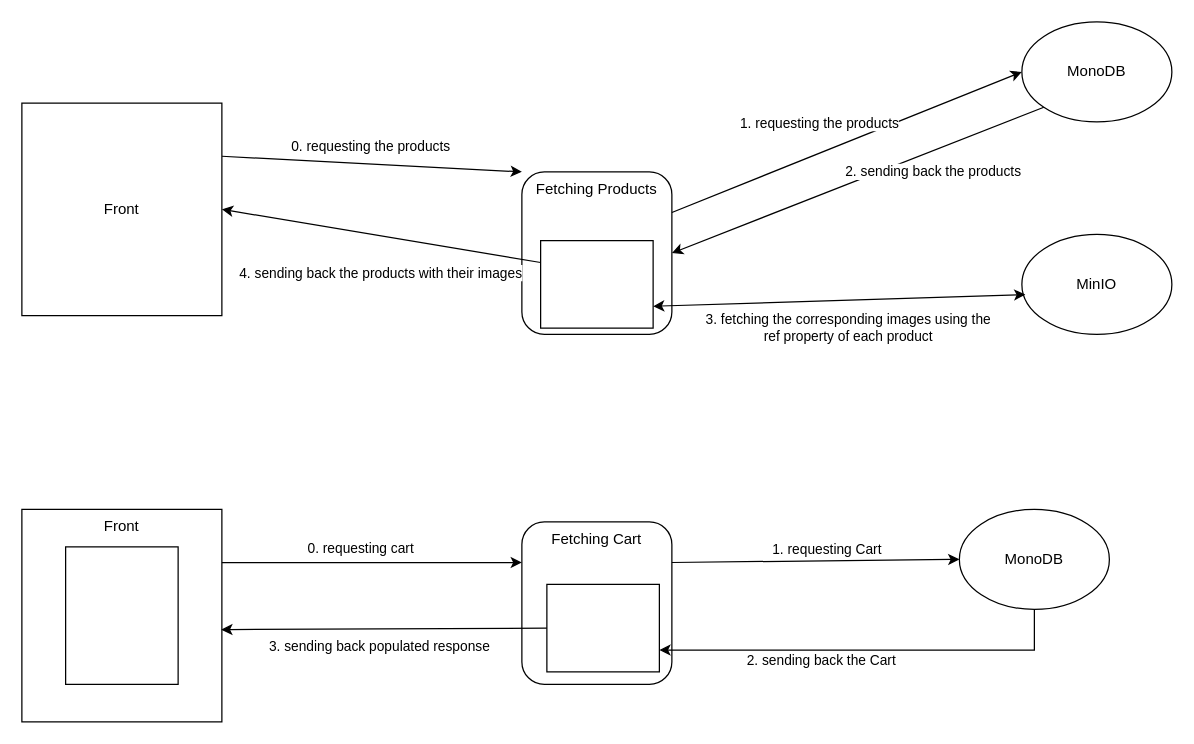
This 1194x744 diagram has some shape labels left out. The shapes that lost their labels are listed below. From the top down, each one's centre as x and y in pixels, then its label:
At [596,283]: "Attach corresponding images to products".
At [121,615]: "attach images to the items using the already fetched products images".
At [602,627]: "Populate the response".
